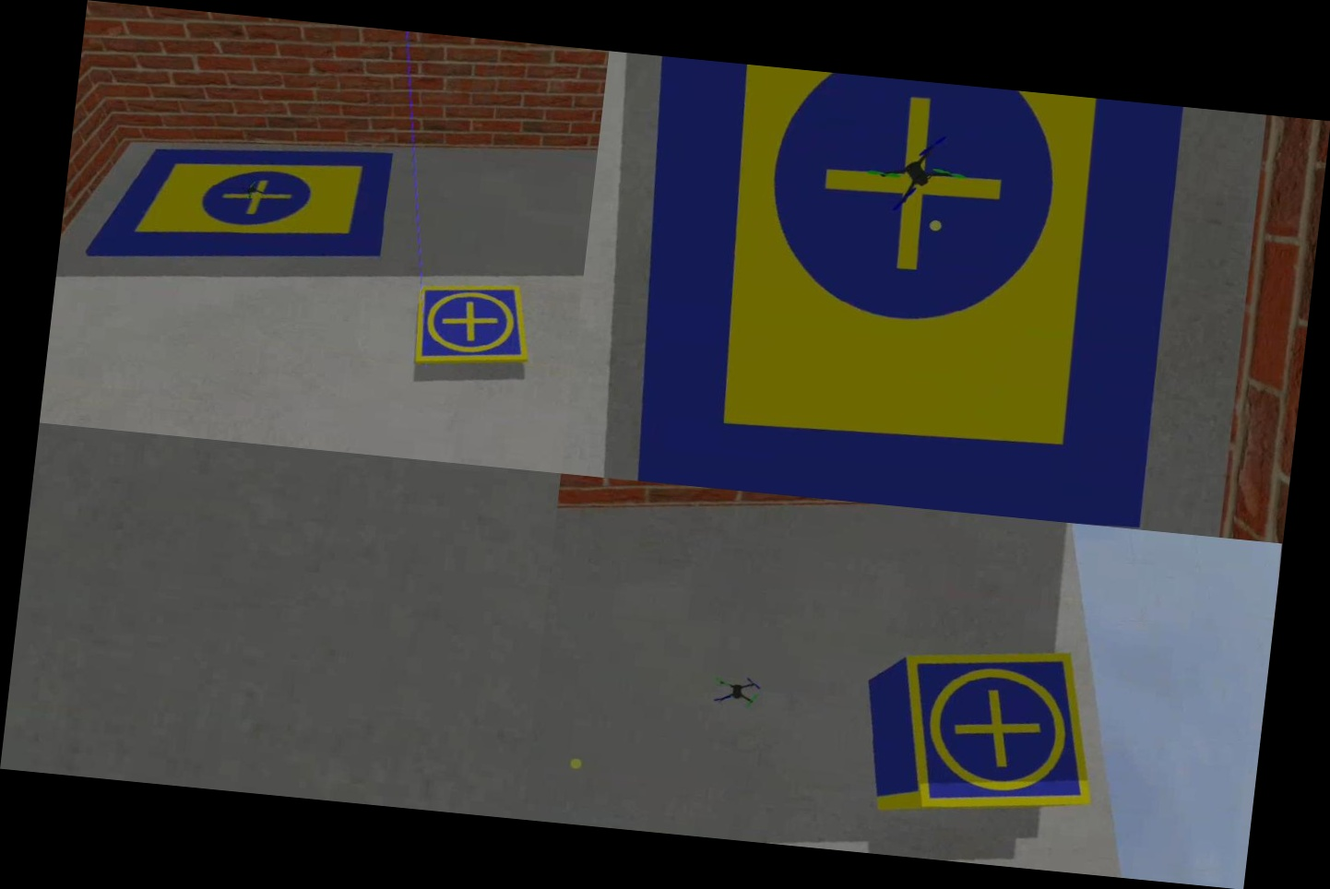large_base: (604, 55, 1190, 530), (78, 126, 398, 288)
small_base: (889, 636, 1111, 828), (410, 273, 539, 376)
